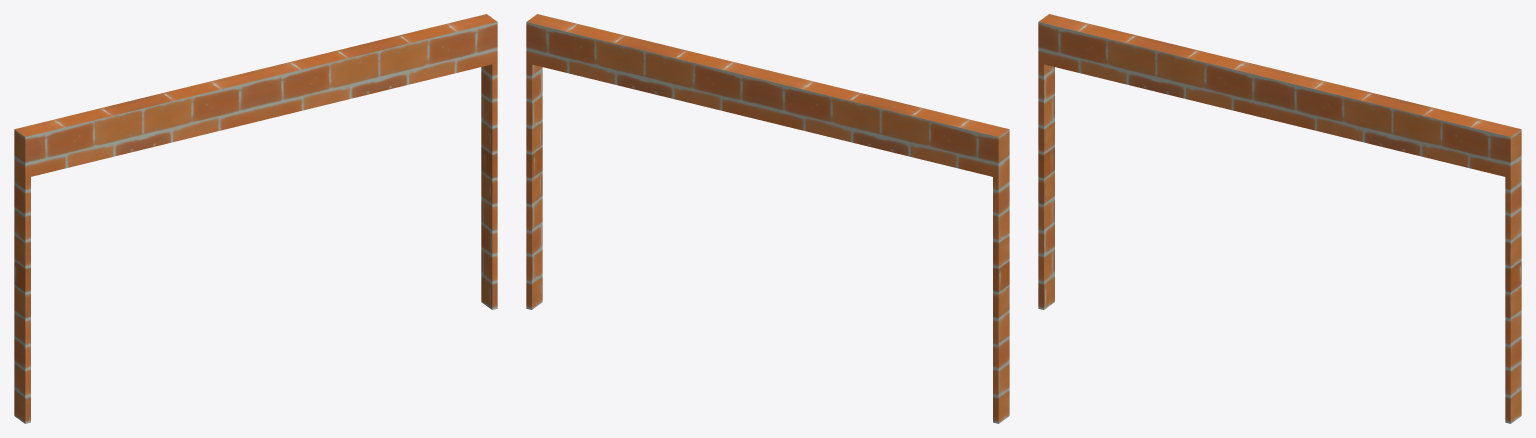
The model's file is Brick_Wall_Doorframe_02.fbx.
The picture shows the model from 3 angles, left to right: view 1: azimuth 30°, elevation 25°; view 2: azimuth 150°, elevation 25°; view 3: azimuth 330°, elevation 25°; orthographic projection.
Parts seen in each view (by area): view 1: Brick_Wall_Doorframe_02; view 2: Brick_Wall_Doorframe_02; view 3: Brick_Wall_Doorframe_02.
Part boxes in pixels (bbox=[...]): Brick_Wall_Doorframe_02: bbox=[14, 14, 497, 423]; Brick_Wall_Doorframe_02: bbox=[526, 14, 1009, 423]; Brick_Wall_Doorframe_02: bbox=[1038, 14, 1521, 423].
Size of the model in its own units: 500 by 290 by 20.
